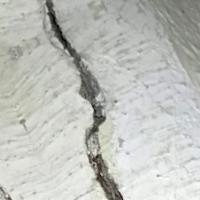crack: (30, 0, 130, 199)
